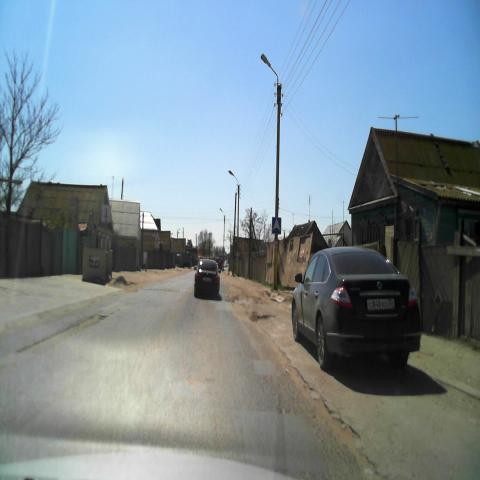5_20: (272, 217, 282, 235)
